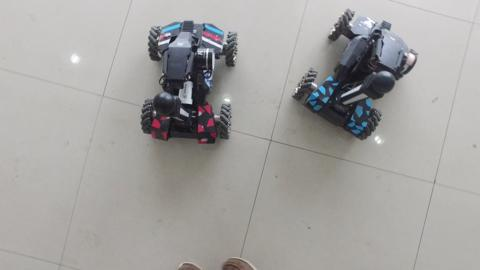chariot: (287, 6, 419, 146), (133, 10, 244, 147)
